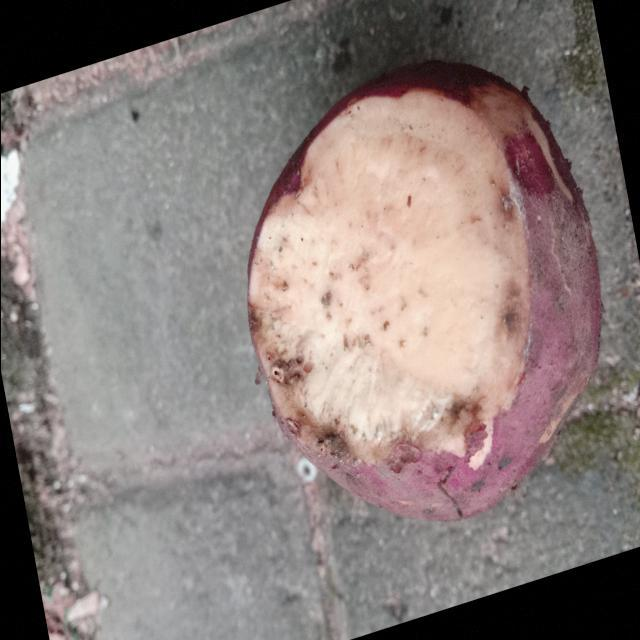Sick Sweet Potato_Tuber Rot: (249, 90, 528, 463)
